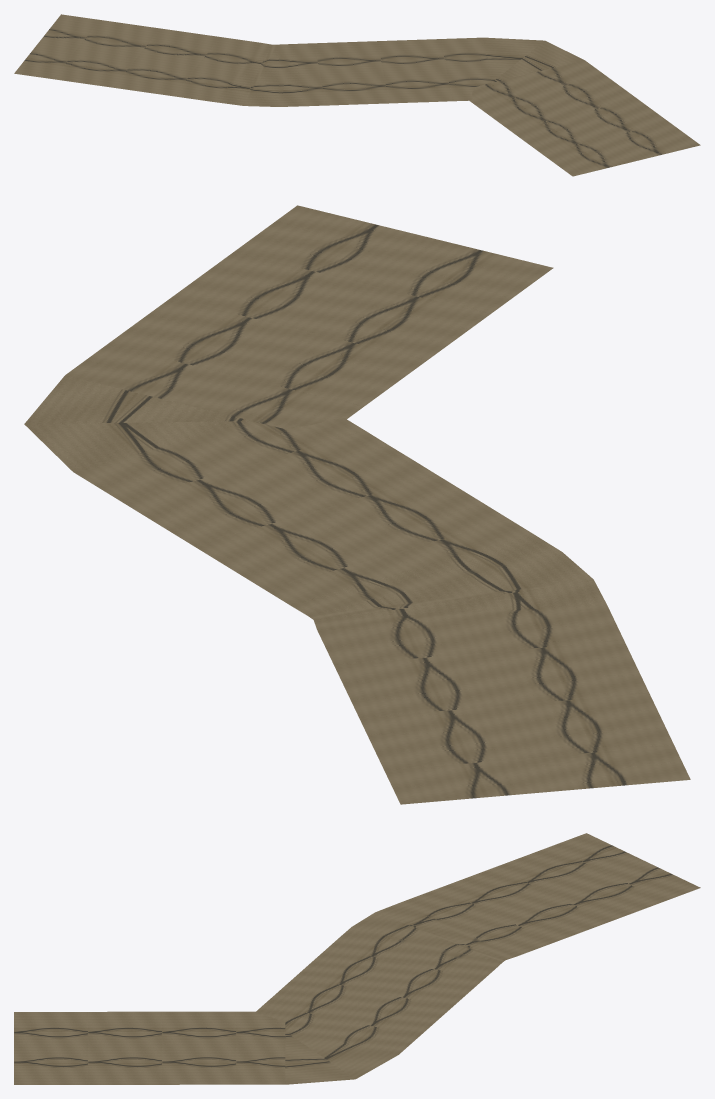
Rendered from drift-entry-road-lod.obj.
3 views of the same model, one above another, from view 1: azimuth 30°, elevation 25°; view 2: azimuth 150°, elevation 25°; view 3: azimuth 270°, elevation 25° (orthographic). The views are drawn at different scales.
Parts seen in each view (by area): view 1: road; view 2: road; view 3: road.
Boxes of the visible parts, <box> form: road: <box>14,14,700,176</box>; road: <box>24,205,690,804</box>; road: <box>14,833,700,1084</box>.
Size of the model in its own units: 48.25 by 0.0104 by 55.63.
Materials: 1 (1 with a texture image).
